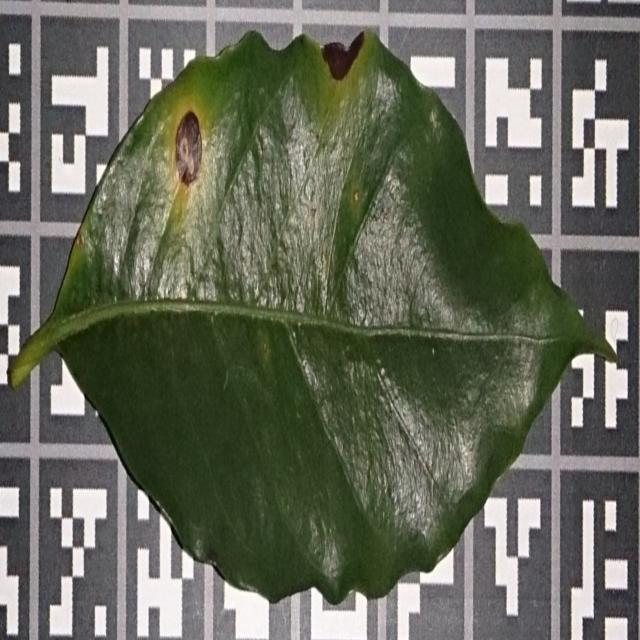Enfermedad-Mancha-de-hierro: (5, 32, 602, 607)
